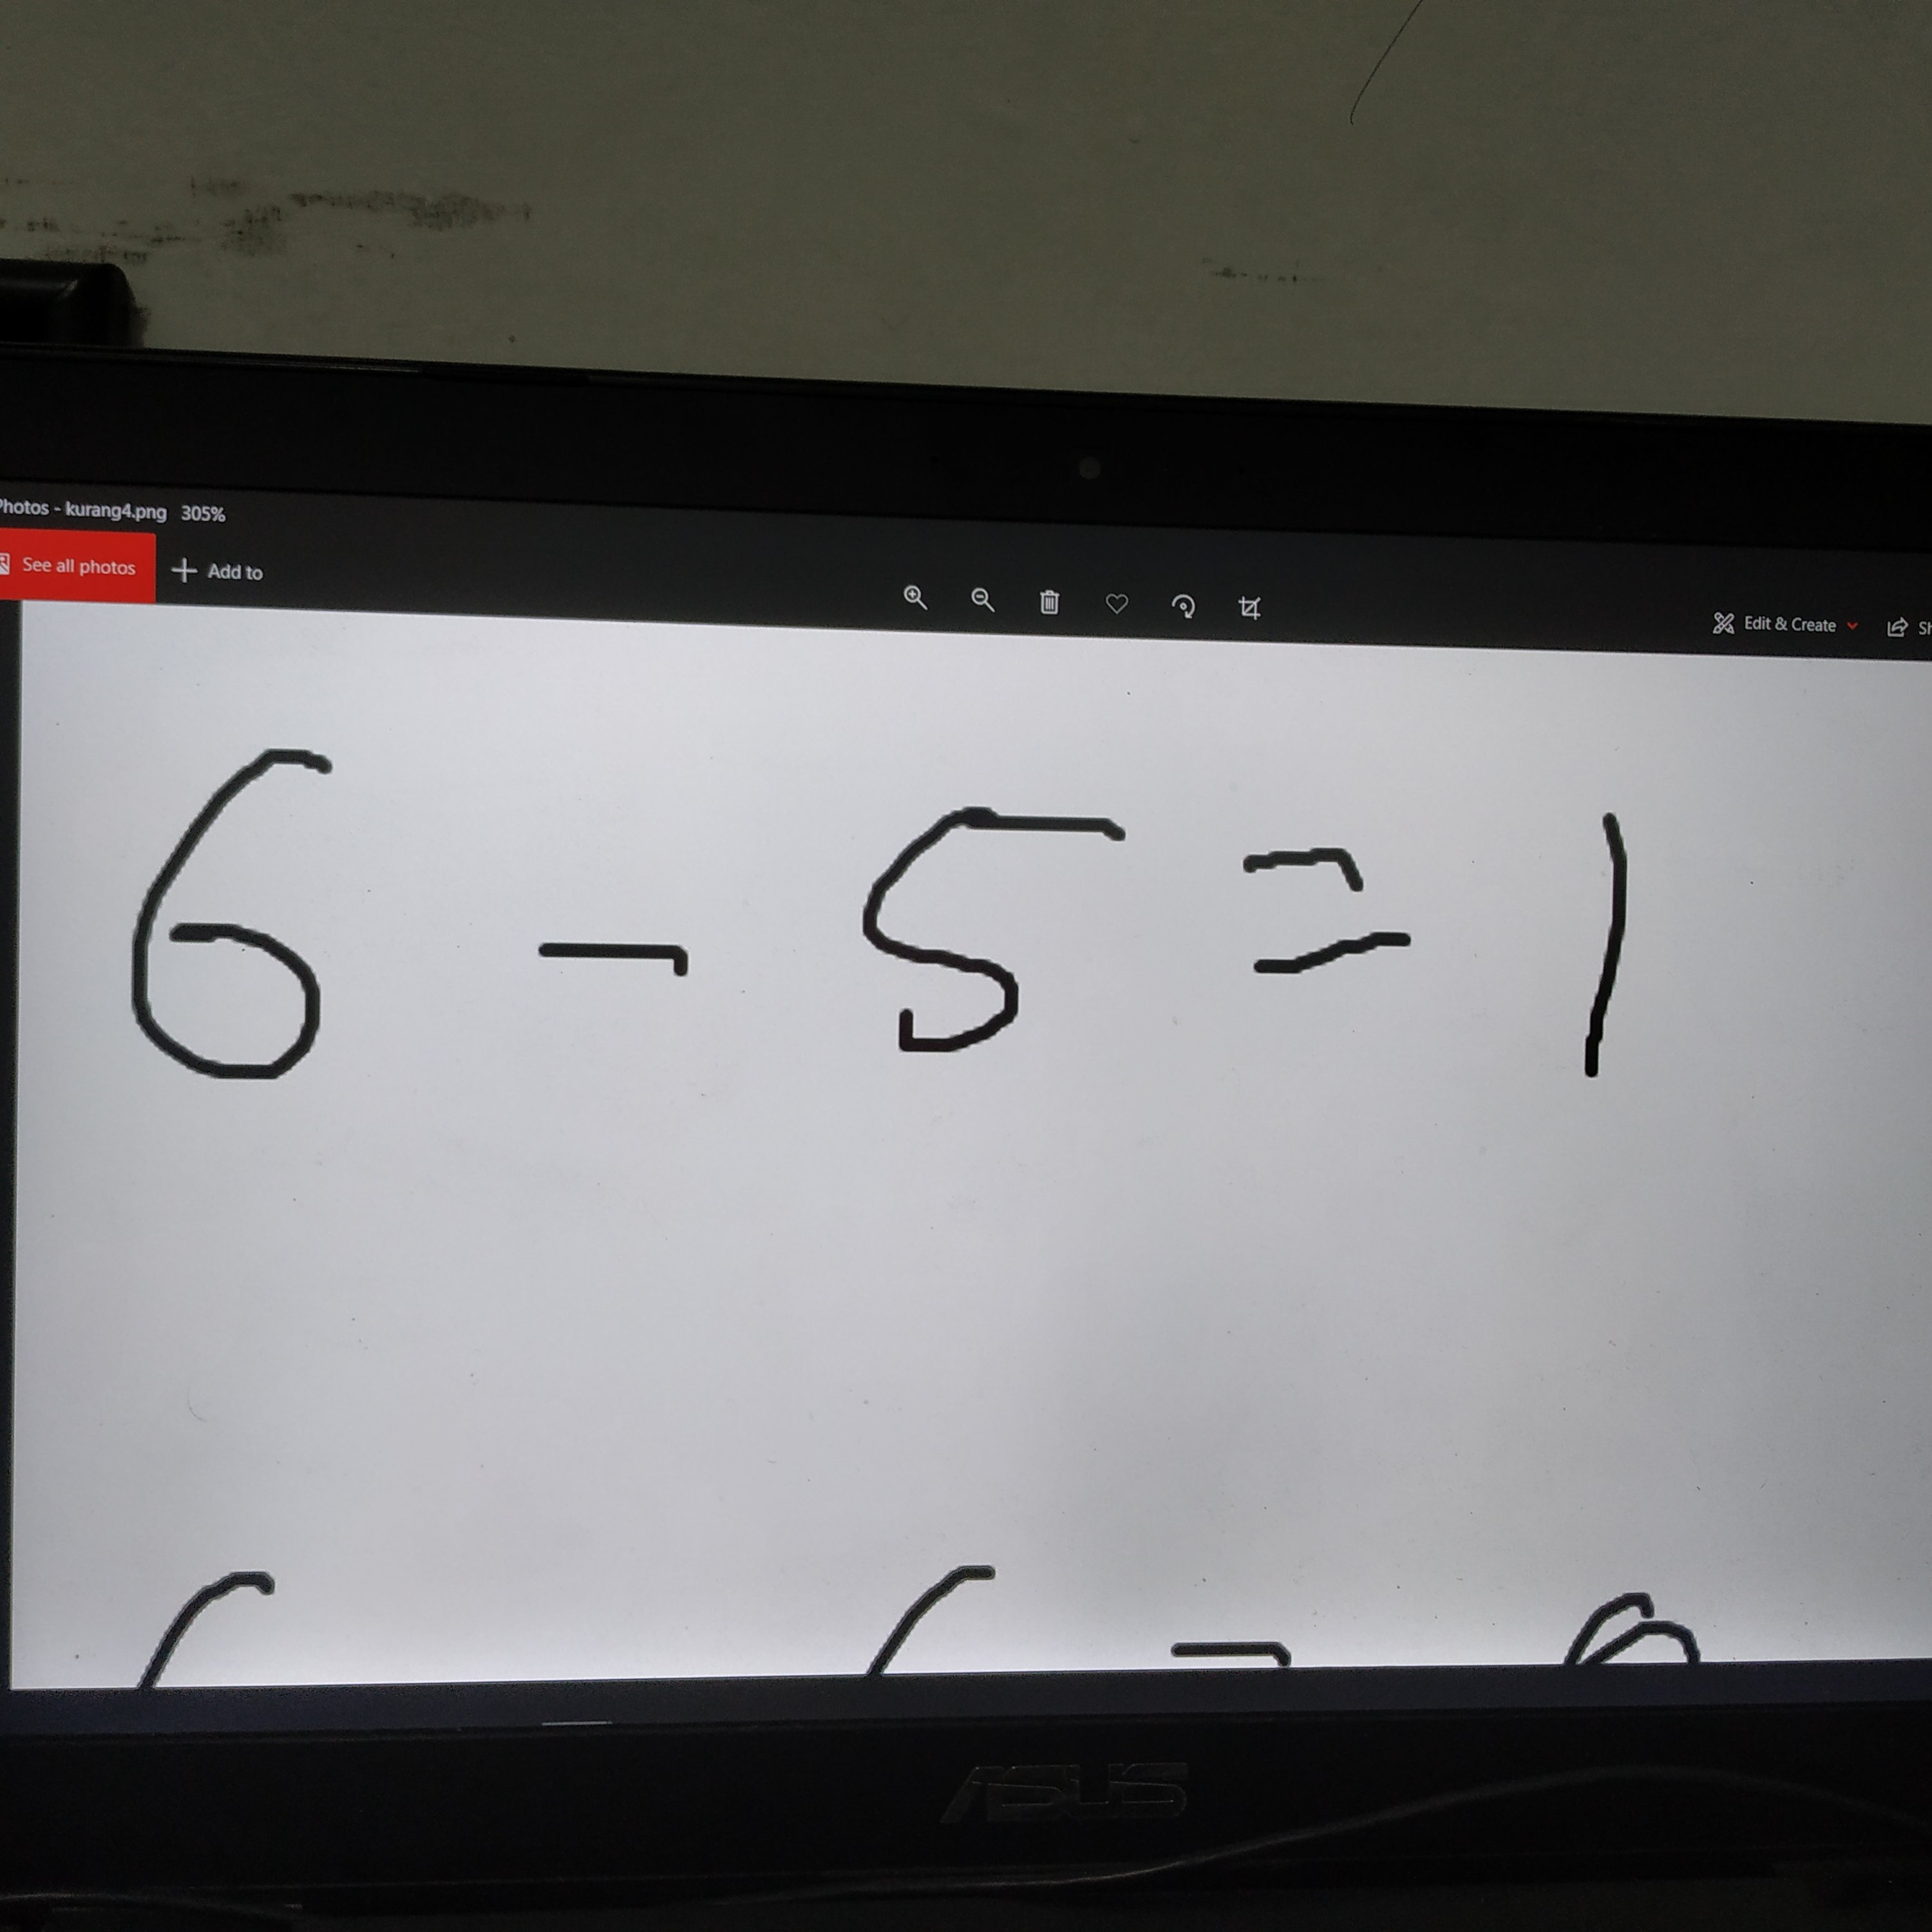equal: (1220, 843, 1442, 985)
min: (518, 910, 734, 999)
num1: (1546, 797, 1665, 1105)
num5: (817, 775, 1191, 1090)
num6: (100, 706, 408, 1122)
